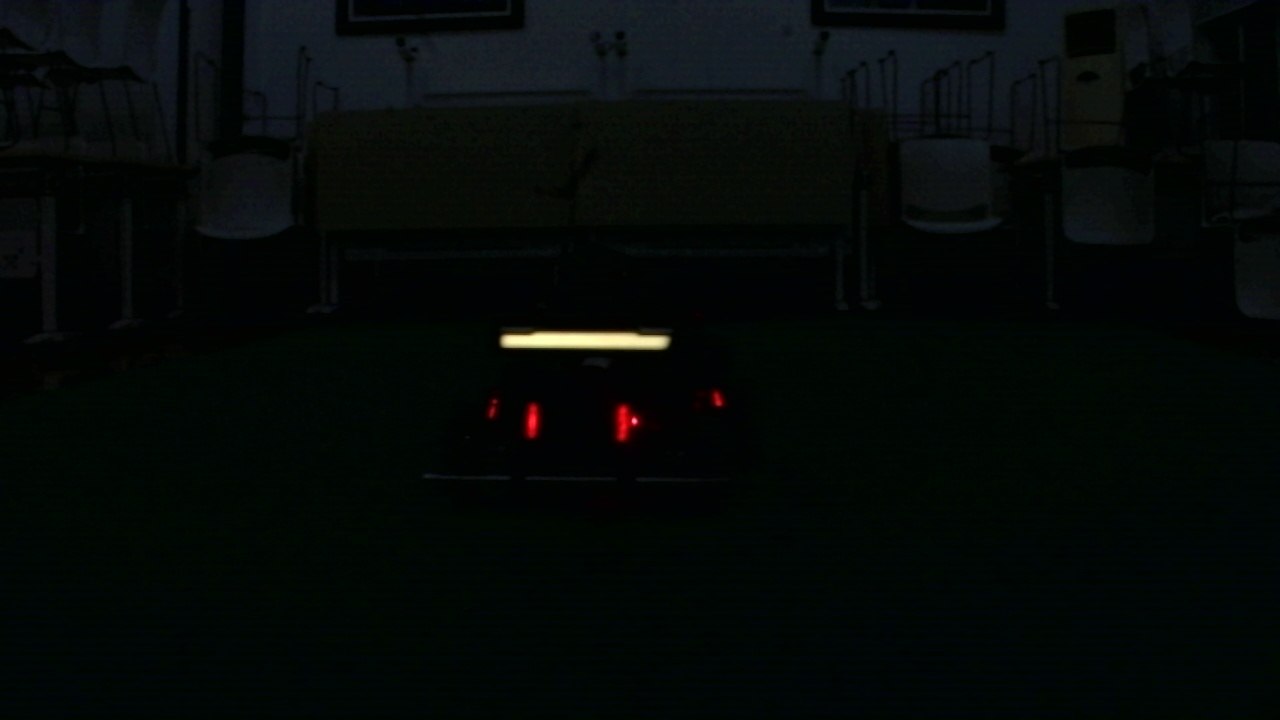lamp: (522, 397, 538, 439), (617, 403, 630, 442)
pair1: (525, 400, 633, 442)
